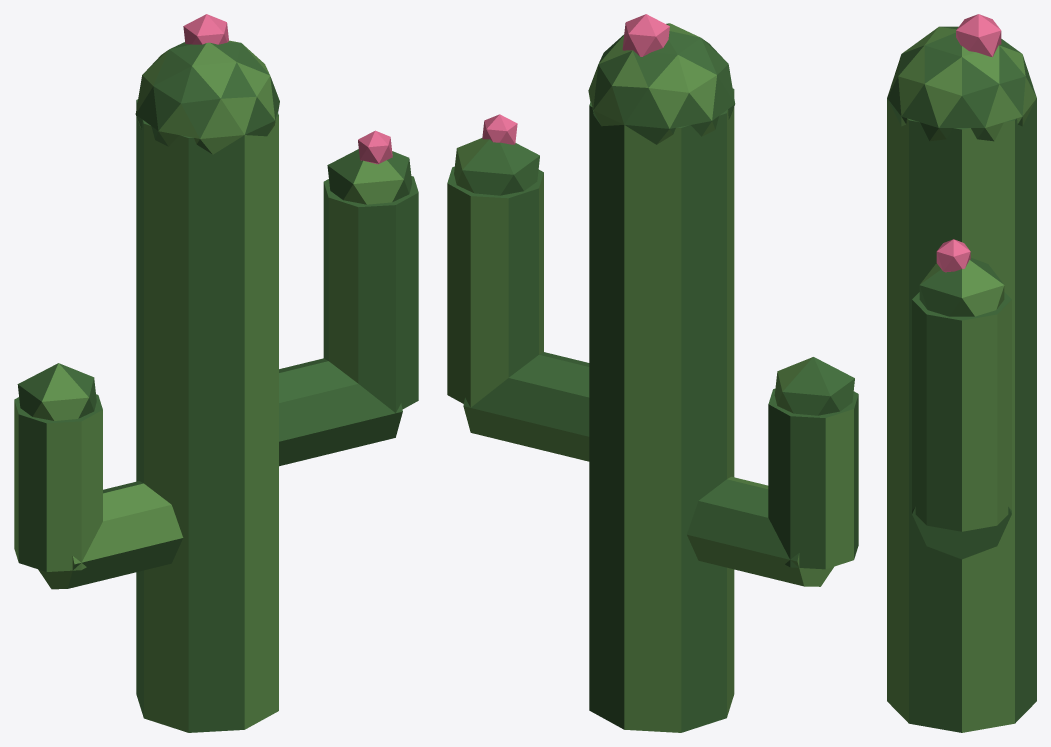
The model's file is Cactus.fbx.
The picture shows the model from 3 angles, left to right: view 1: azimuth 30°, elevation 25°; view 2: azimuth 150°, elevation 25°; view 3: azimuth 270°, elevation 25°; orthographic projection.
Visible parts, largest first — view 1: Cactus; view 2: Cactus; view 3: Cactus.
Boxes of the visible parts, bbox=[...] form: Cactus: bbox=[14, 14, 418, 732]; Cactus: bbox=[447, 14, 858, 732]; Cactus: bbox=[887, 14, 1036, 732].
Bounding box in the file's own units: 2.78 × 4.58 × 0.9.
Materials: 1 (1 with a texture image).
